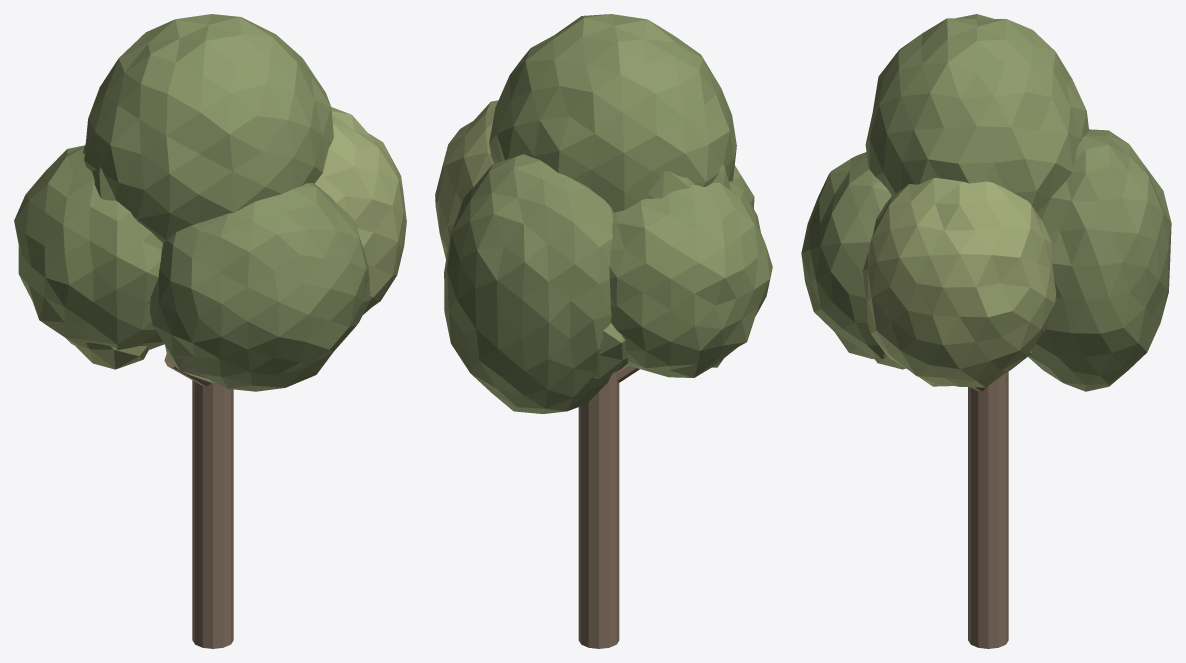
File: small_deciduous_tree_real3d_a.glb
3 renders of one model, left to right at view 1: azimuth 30°, elevation 25°; view 2: azimuth 150°, elevation 25°; view 3: azimuth 270°, elevation 25°, orthographic. The views are drawn at different scales.
Visible parts, largest first — view 1: world; view 2: world; view 3: world.
Part boxes in pixels (x1,y1,x2,y2): world: [14, 14, 406, 648]; world: [435, 14, 772, 648]; world: [801, 14, 1171, 648].
Bounding box in the file's own units: 3.33 × 5.87 × 3.23.
